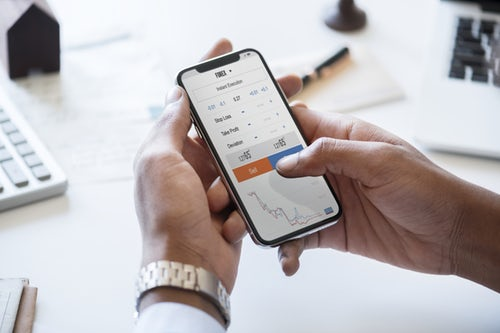phone: (175, 47, 344, 251)
